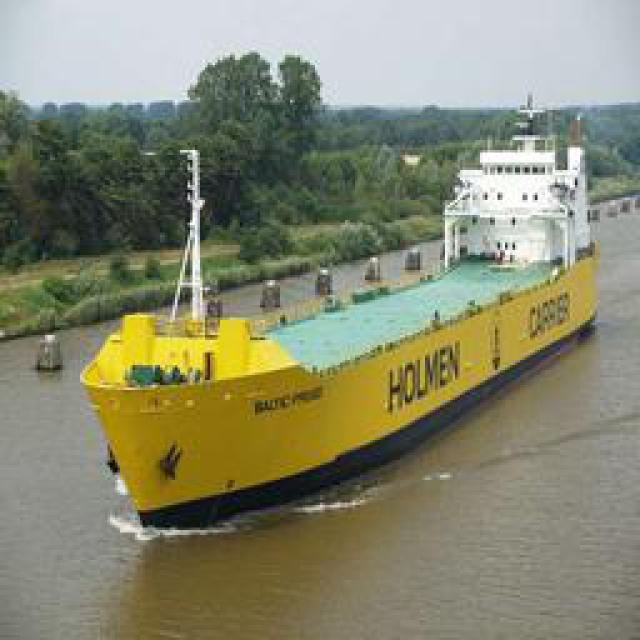Ship: (90, 92, 608, 545)
